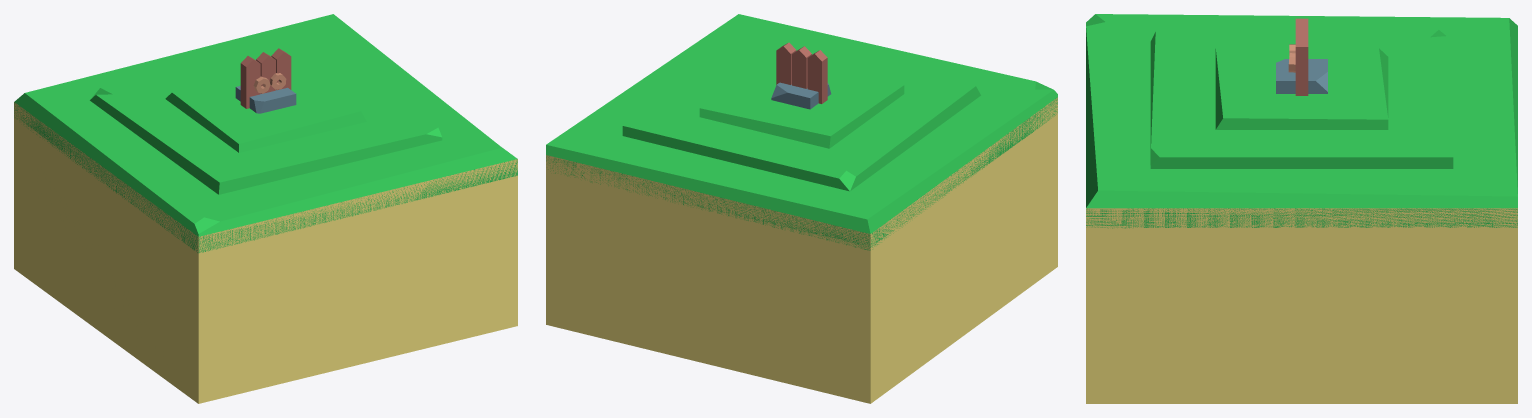
Rendered from All Models.fbx.
3 renders of one model, left to right at view 1: azimuth 30°, elevation 25°; view 2: azimuth 150°, elevation 25°; view 3: azimuth 270°, elevation 25°, orthographic. The views are drawn at different scales.
Visible parts, largest first — view 1: Sand, wtf, GreenPlain, Bevel Sand 4, Bevel Green Plain 4, Bevel Green Plain 2, Boo Face Wood, Bevel Sand 2, Cubic Rock; view 2: Sand, wtf, GreenPlain, Bevel Sand 2, Bevel Green Plain 4, Bevel Sand 4, Bevel Green Plain 2, Boo Face Wood, Cubic Rock; view 3: Sand, wtf, GreenPlain, Bevel Sand 2, Bevel Green Plain 4, Bevel Green Plain 2, Cubic Rock, Boo Face Wood.
Part boxes in pixels (bbox=[...]): Sand: bbox=[14, 102, 517, 403]; wtf: bbox=[14, 14, 517, 236]; GreenPlain: bbox=[14, 103, 517, 403]; Bevel Sand 4: bbox=[14, 111, 514, 403]; Bevel Green Plain 4: bbox=[14, 115, 517, 401]; Bevel Green Plain 2: bbox=[14, 102, 515, 400]; Boo Face Wood: bbox=[240, 48, 291, 108]; Bevel Sand 2: bbox=[201, 197, 506, 322]; Cubic Rock: bbox=[235, 86, 296, 113]; Sand: bbox=[546, 97, 1057, 403]; wtf: bbox=[546, 14, 1057, 233]; GreenPlain: bbox=[546, 98, 1057, 403]; Bevel Sand 2: bbox=[546, 161, 870, 402]; Bevel Green Plain 4: bbox=[546, 124, 1057, 402]; Bevel Sand 4: bbox=[570, 135, 1057, 400]; Bevel Green Plain 2: bbox=[547, 97, 1057, 403]; Boo Face Wood: bbox=[776, 42, 827, 103]; Cubic Rock: bbox=[771, 82, 831, 109]; Sand: bbox=[1086, 208, 1517, 403]; wtf: bbox=[1086, 14, 1517, 208]; GreenPlain: bbox=[1086, 208, 1517, 403]; Bevel Sand 2: bbox=[1086, 208, 1517, 403]; Bevel Green Plain 4: bbox=[1087, 208, 1517, 402]; Bevel Green Plain 2: bbox=[1091, 208, 1517, 400]; Cubic Rock: bbox=[1276, 59, 1327, 93]; Boo Face Wood: bbox=[1288, 18, 1308, 95].
Bounding box in the file's own units: 200 × 146 × 200.
